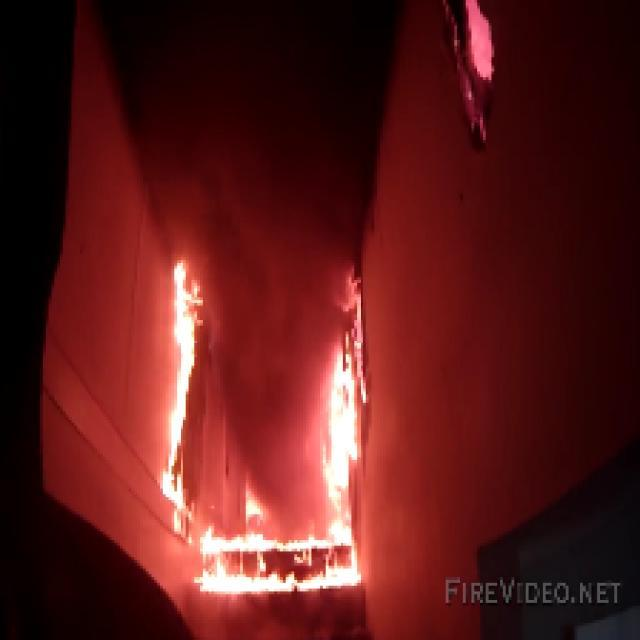Fire: (157, 266, 200, 528), (323, 280, 366, 526), (197, 532, 360, 592)
Smoke: (157, 120, 369, 257), (226, 266, 311, 437)
